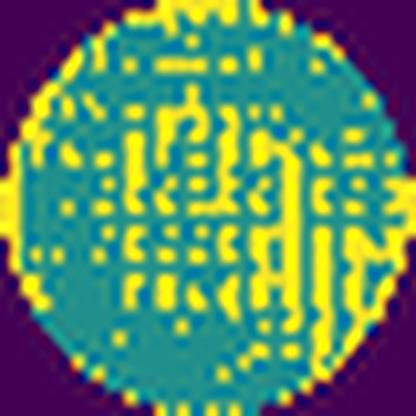Random: (0, 0, 416, 394)
